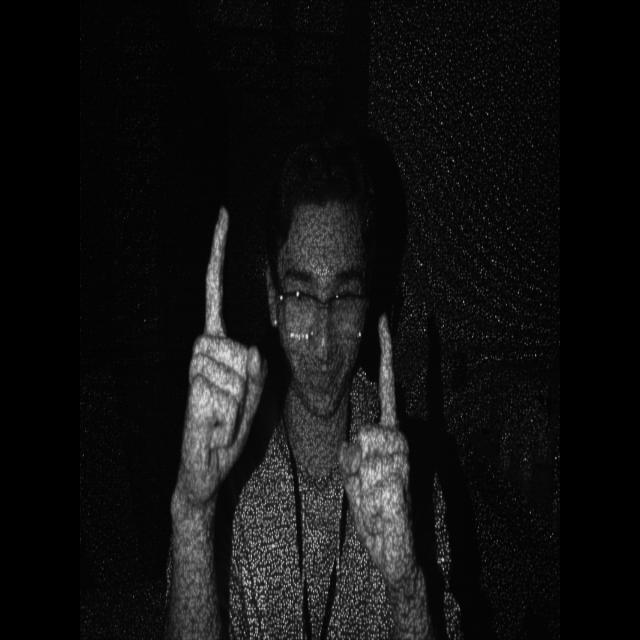STARS: (335, 299, 423, 594), (182, 192, 263, 498)
